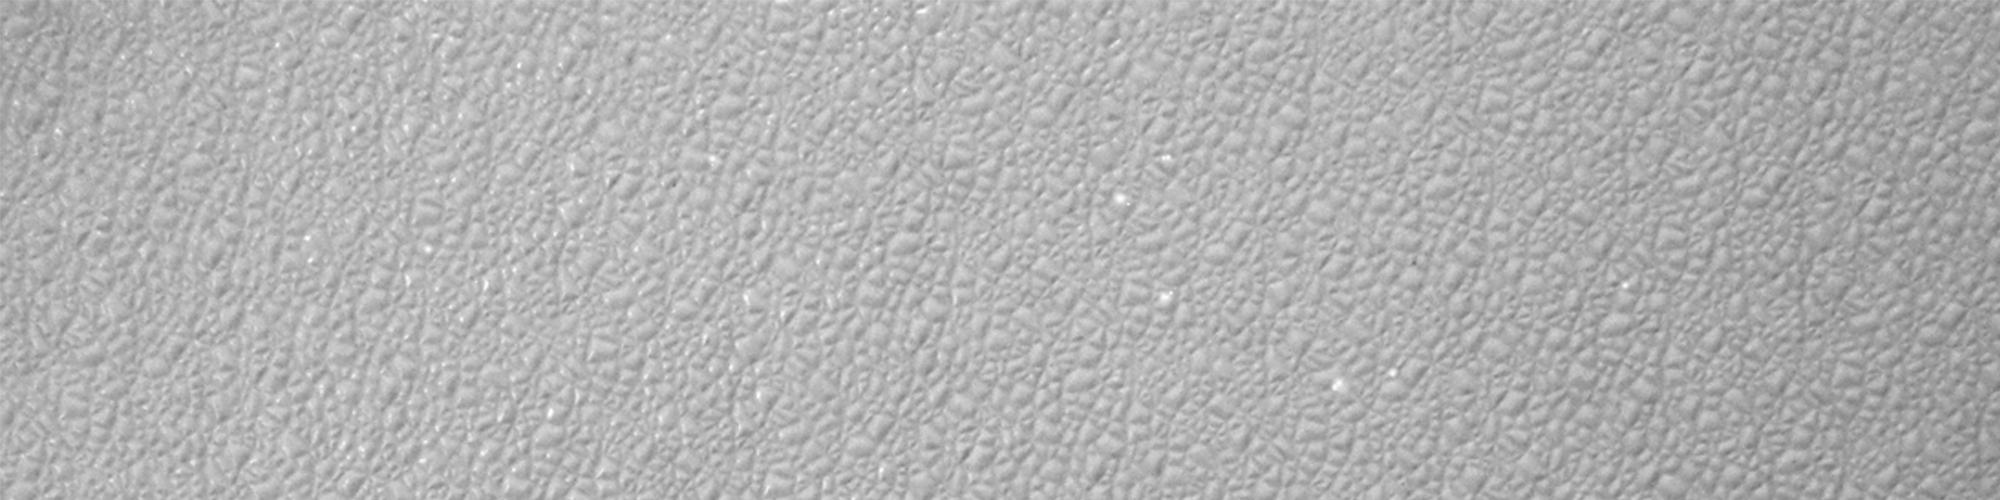Particles: (1106, 186, 1130, 210), (1386, 360, 1406, 385), (1327, 378, 1349, 395), (1159, 286, 1182, 301)
